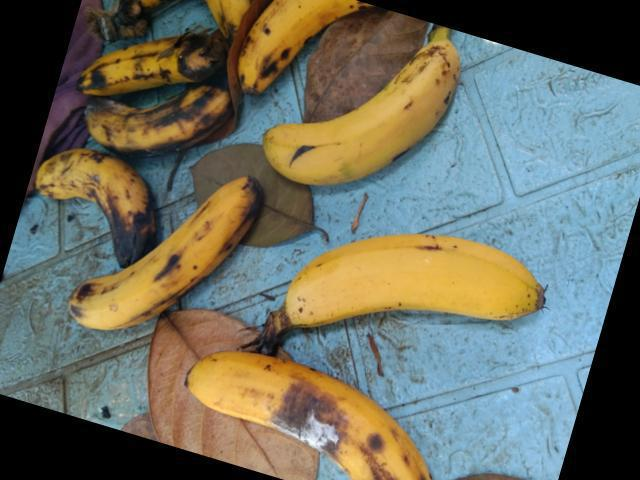freshripe: (271, 207, 551, 348)
ripe: (252, 21, 476, 188), (46, 175, 268, 335)
rotten: (175, 347, 430, 479), (26, 145, 154, 260), (59, 80, 226, 163), (59, 27, 223, 108), (227, 0, 385, 83)
